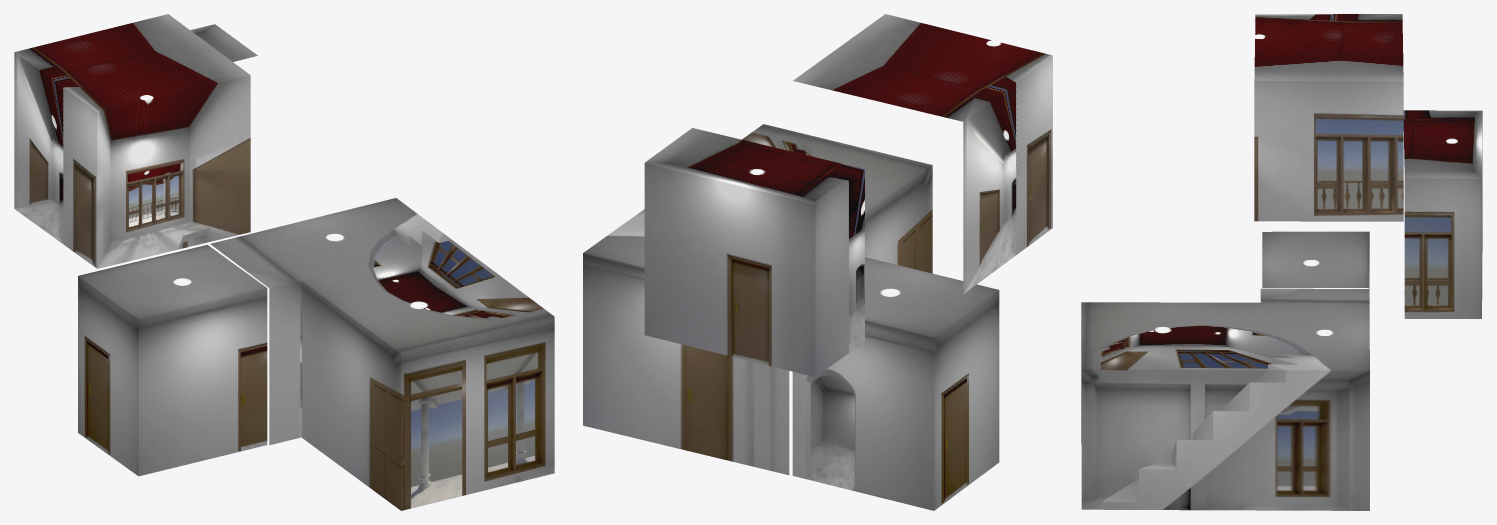
File: house.glb
3 views of the same model, side by side, from view 1: azimuth 30°, elevation 25°; view 2: azimuth 150°, elevation 25°; view 3: azimuth 270°, elevation 25° (orthographic). The views are drawn at different scales.
Parts seen in each view (by area): view 1: Foyer Mesh, Landing 2 Mesh, Dining Room Mesh, Landing Mesh; view 2: Landing Mesh, Dining Room Mesh, Foyer Mesh, Landing 2 Mesh; view 3: Foyer Mesh, Landing 2 Mesh, Landing Mesh, Dining Room Mesh.
Part boxes in pixels (bbox=[...]): Foyer Mesh: bbox=[210, 198, 554, 510]; Landing 2 Mesh: bbox=[14, 14, 250, 268]; Dining Room Mesh: bbox=[78, 245, 267, 476]; Landing Mesh: bbox=[190, 24, 257, 61]; Landing Mesh: bbox=[644, 128, 864, 376]; Dining Room Mesh: bbox=[792, 257, 999, 510]; Foyer Mesh: bbox=[583, 124, 932, 475]; Landing 2 Mesh: bbox=[793, 14, 1052, 294]; Foyer Mesh: bbox=[1081, 288, 1369, 510]; Landing 2 Mesh: bbox=[1254, 14, 1403, 221]; Landing Mesh: bbox=[1403, 110, 1482, 318]; Dining Room Mesh: bbox=[1262, 231, 1369, 323].
Size of the model in its own units: 8.17 by 8.11 by 8.72.
12 materials, 12 textured.
